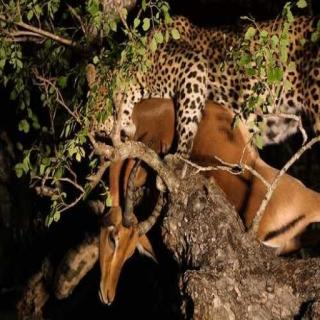Leopard: (60, 24, 221, 128)
